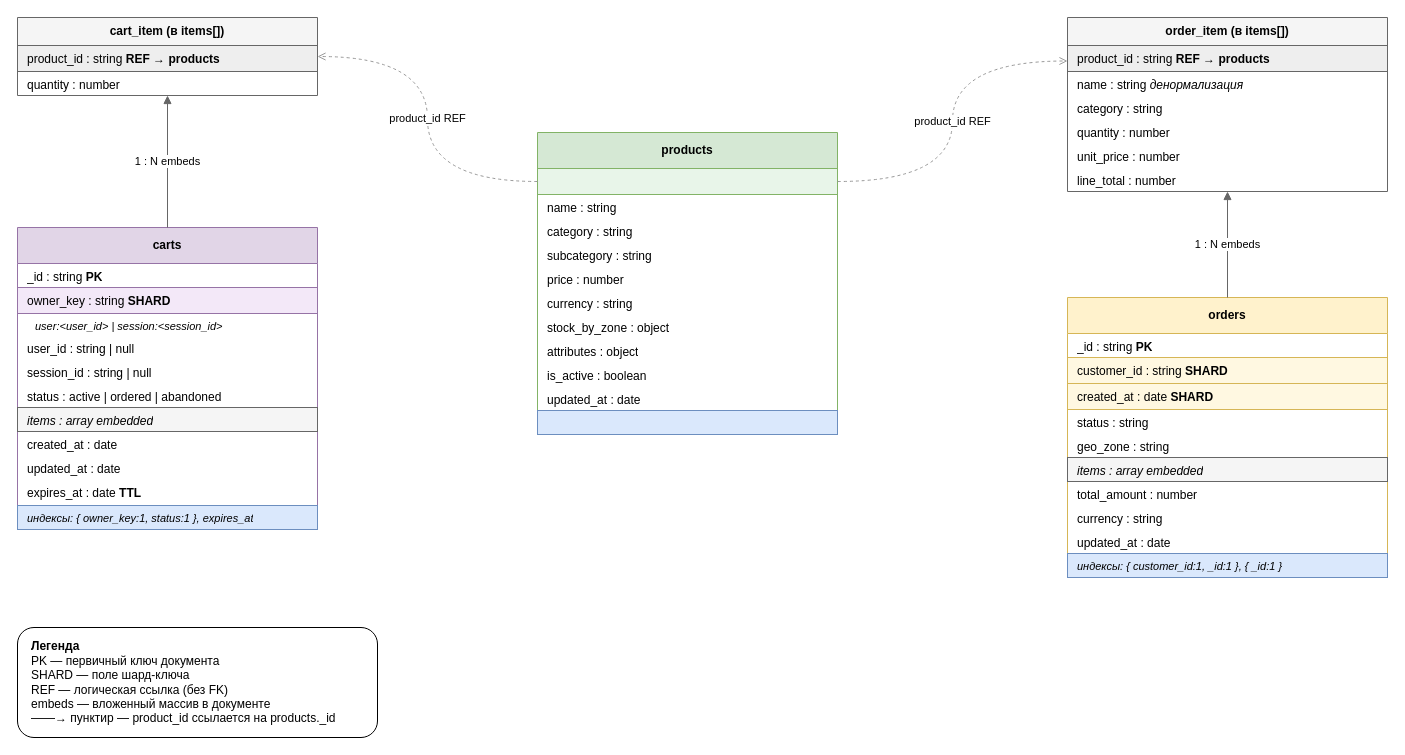
Image size: 1405x755. Some labels were removed from this diagram. Here are the shapes that lost their labels. From the top down, the centre of each, then its label:
At point (687, 181): "_id : string PK · SHARD".
At point (687, 422): "индекс: { category:1, price:1 }".
